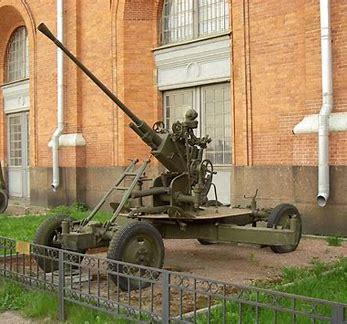MIL_SPG: (34, 23, 301, 290)
